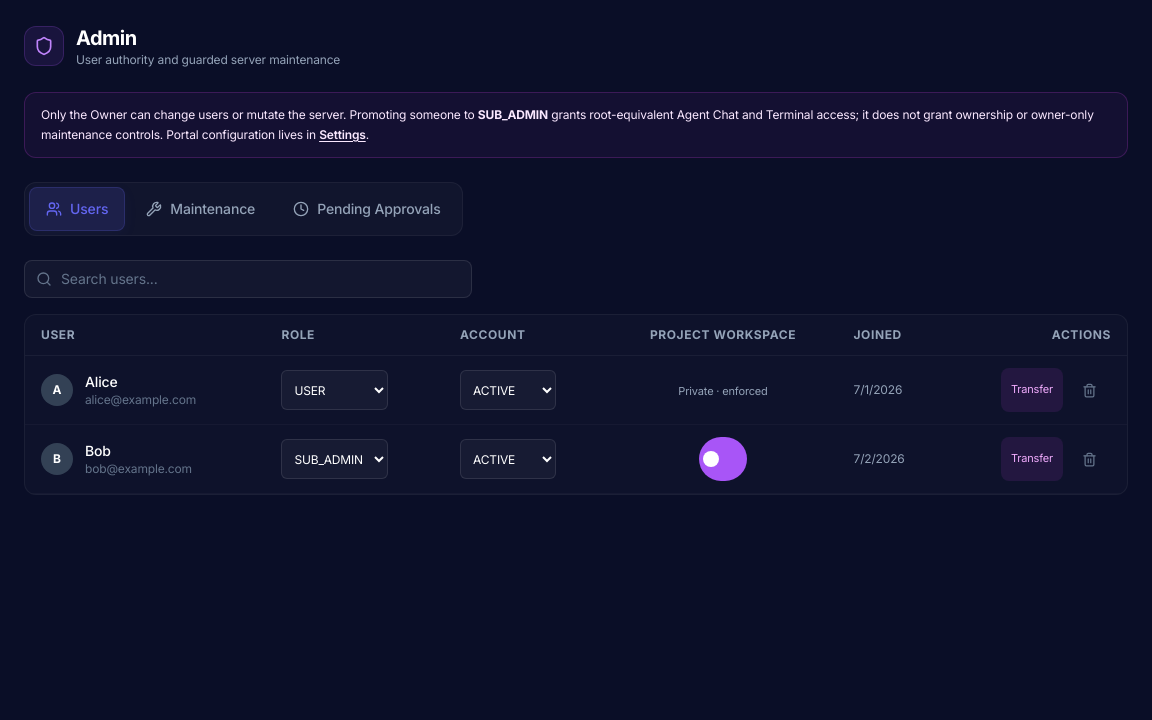
Scenario: AdminPage authority mutation admission › requires the exact account-bound phrase before retiring a user
The width and height of the screenshot is (1152, 720).
Check: the text "alice@example.com" is shown, box [85,392,196,407]
Check: the text "bob@example.com" is shown, box [85,461,192,476]
Click the button named "Delete alice@example.com" at coordinates (1089, 390), box [1067,368,1111,412]
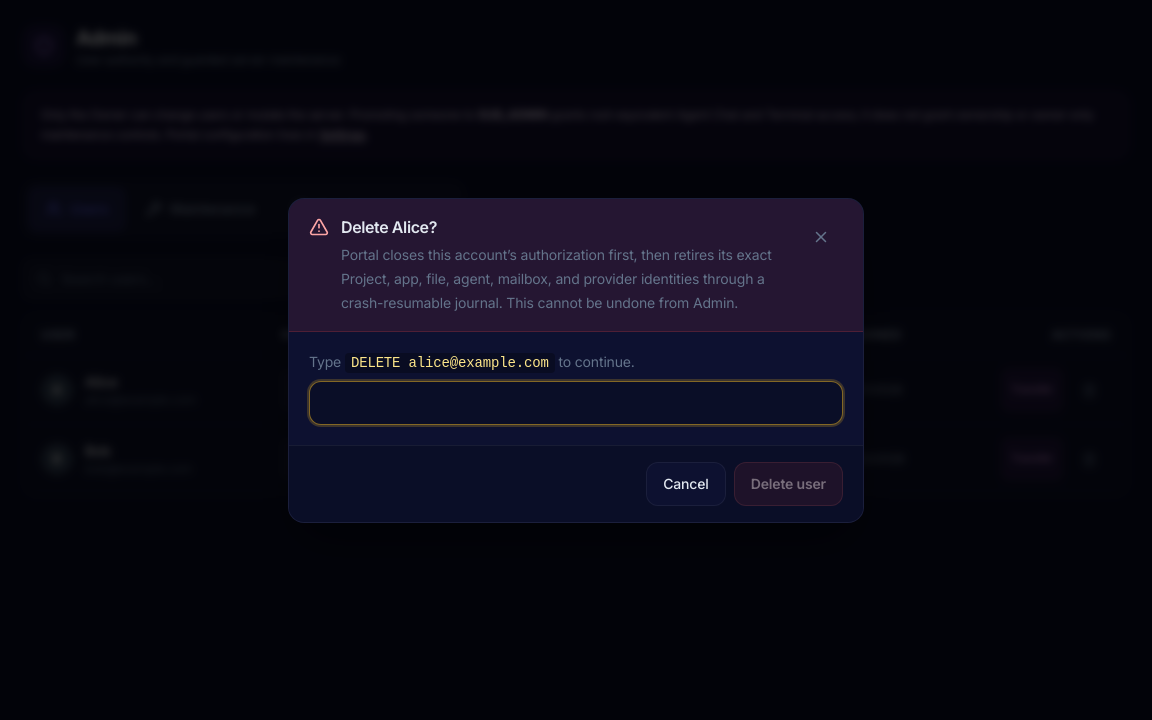
Check: the button "Delete user" is disabled, box [734,462,843,506]
Type "DELETE alice@example.com" into the field labelled "Type DELETE alice@example.com to continue." at coordinates (576, 402), box [309,380,843,424]
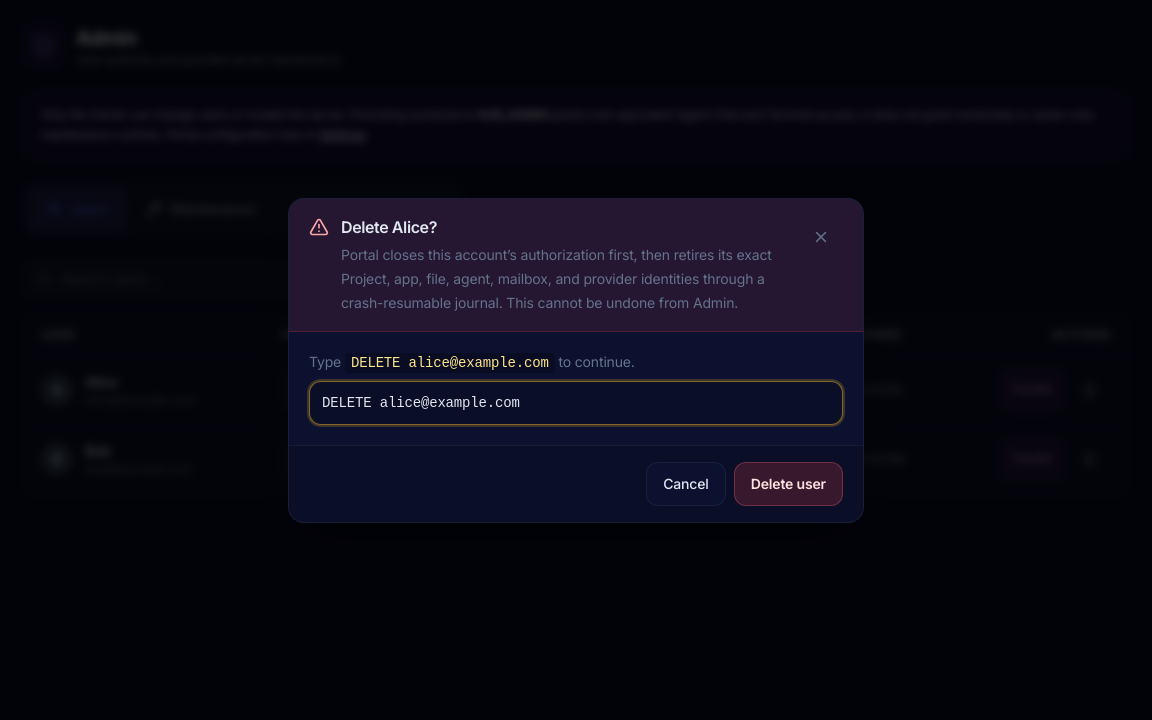
Click the button "Delete user" at coordinates (788, 484), box [734,462,843,506]
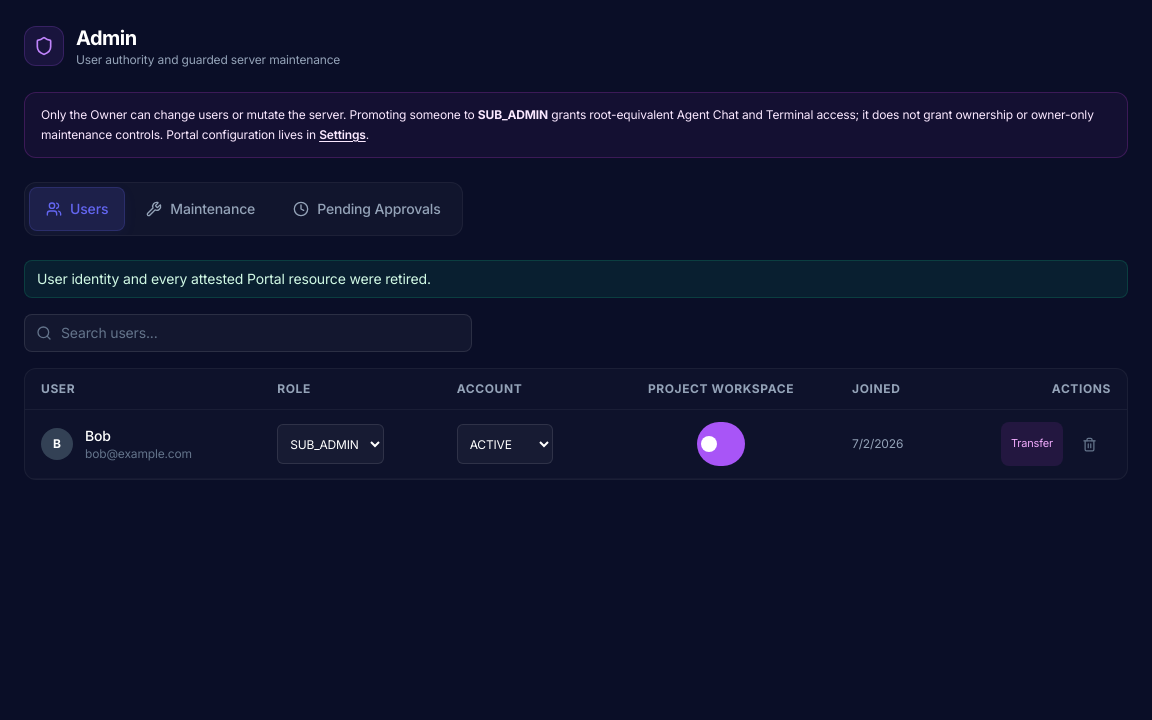
Check: the text "bob@example.com" is shown, box [85,446,192,462]
Check: the heading "Delete Alice?" is gone
Check: the text "alice@example.com" is gone
